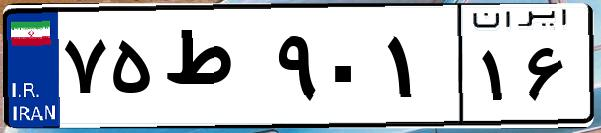0: (330, 28, 385, 110)
1: (385, 28, 445, 110), (475, 38, 525, 113)
5: (110, 28, 158, 98)
6: (525, 38, 570, 115)
7: (57, 26, 110, 100)
9: (270, 28, 330, 110)
ط: (158, 20, 270, 120)
